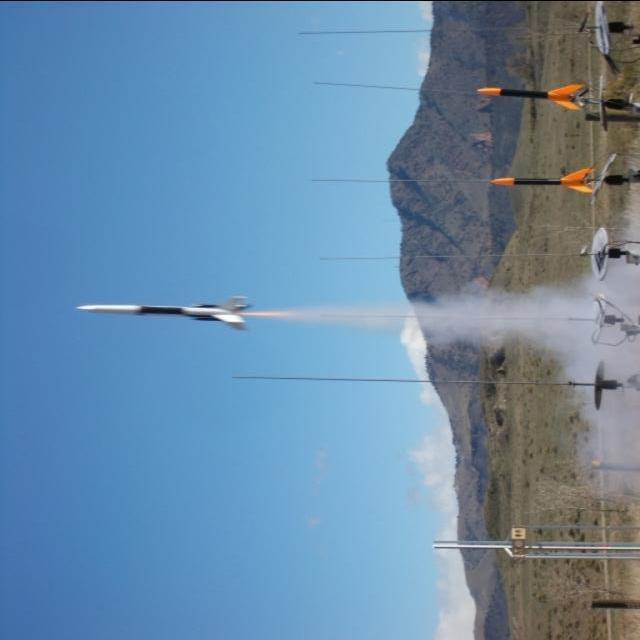missile: (478, 80, 586, 106), (76, 306, 249, 321), (492, 175, 607, 191)
